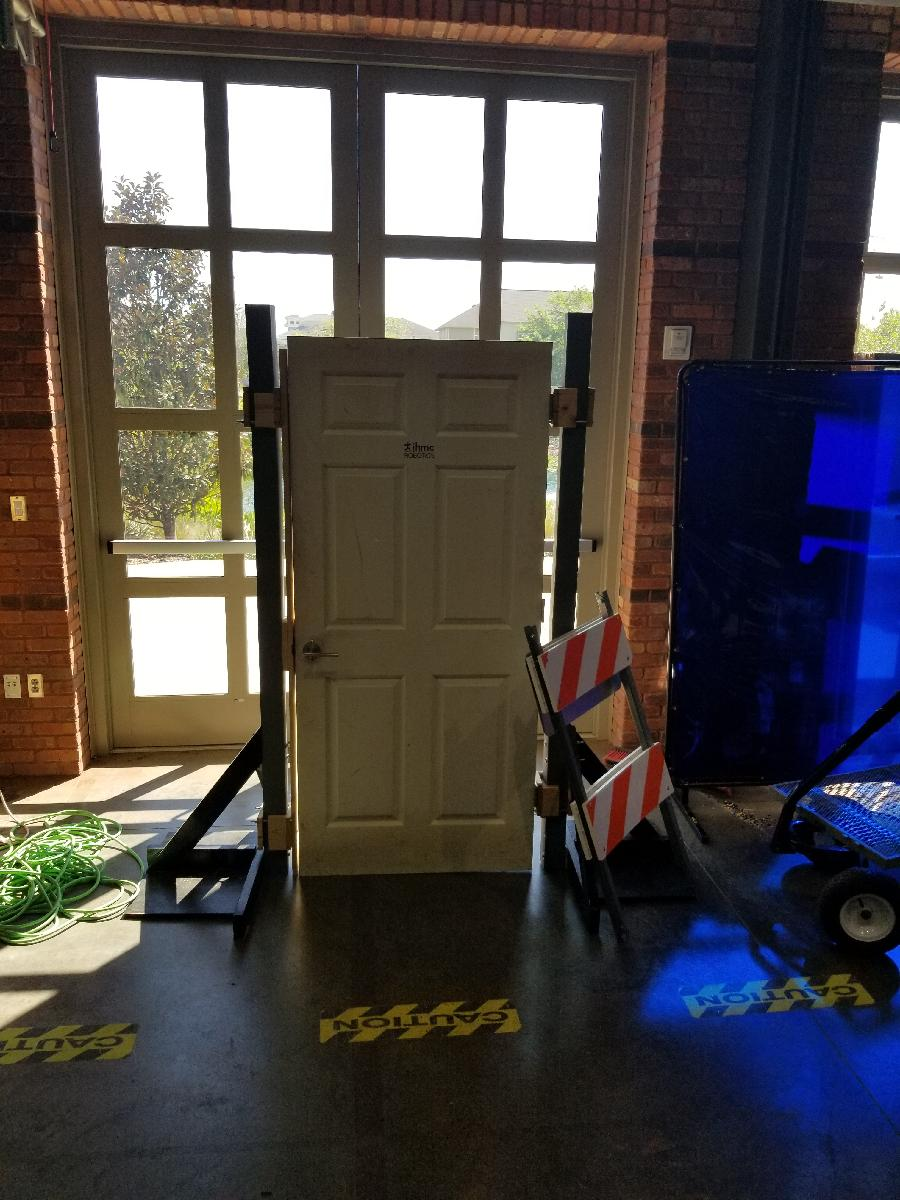door: (279, 324, 553, 889)
doorHandle: (300, 638, 343, 670)
